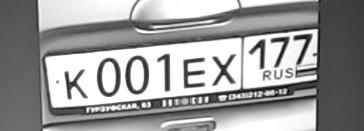license-plateSW: (42, 28, 324, 113)
